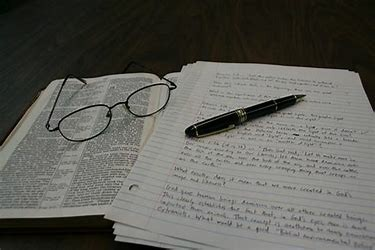pen: (179, 92, 310, 135)
